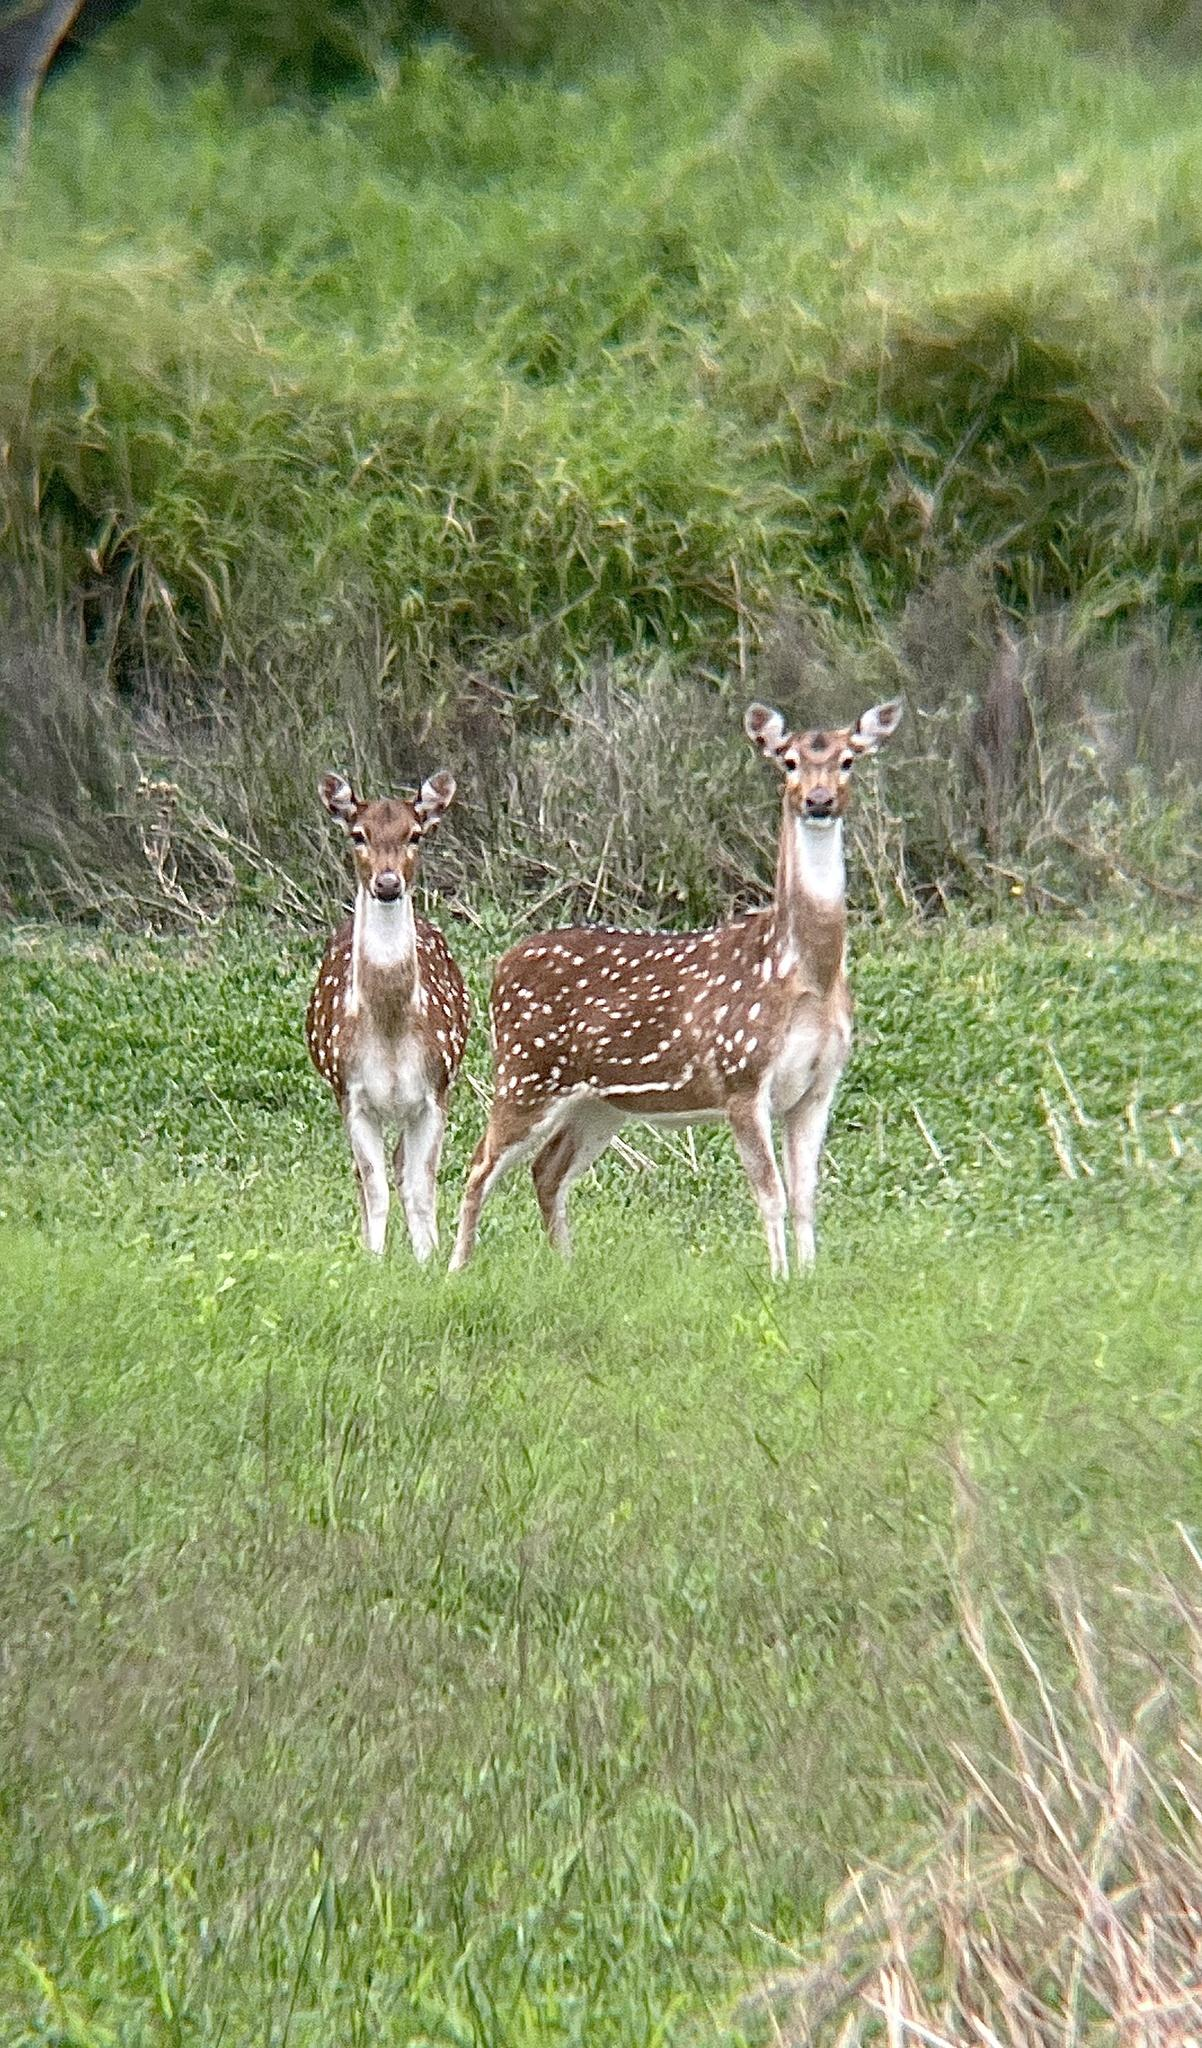Deer: (451, 696, 901, 1276), (306, 771, 466, 1261)
